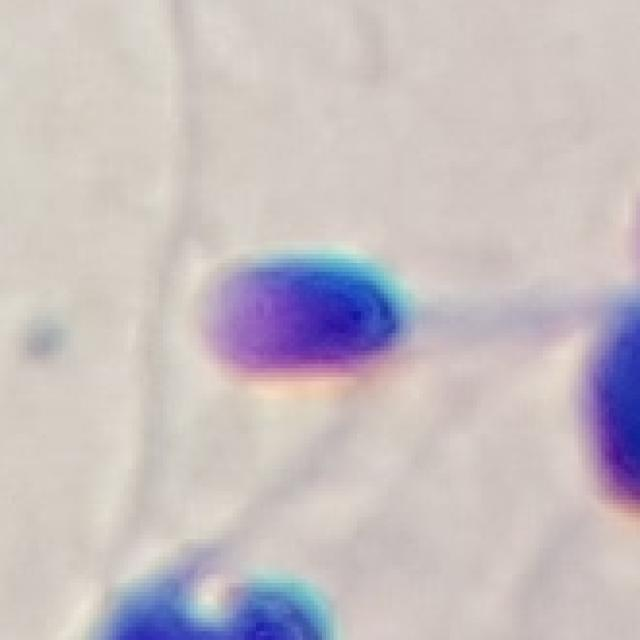normal sperm: (188, 242, 603, 370)
